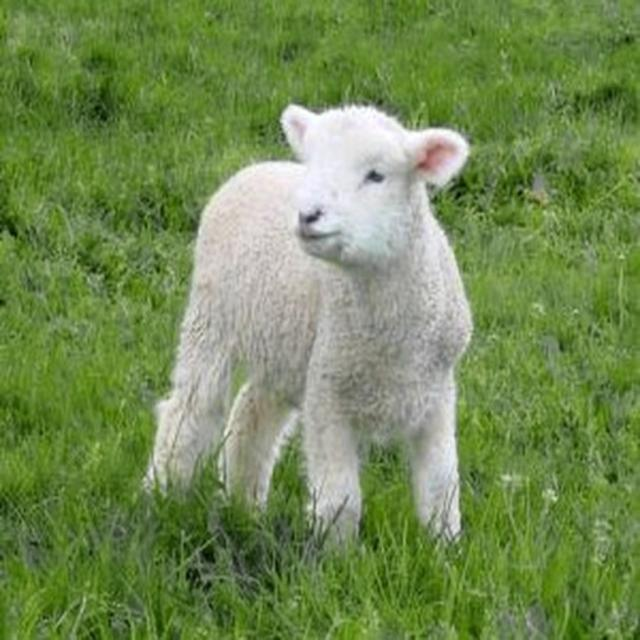Sheep: (141, 104, 470, 564)
